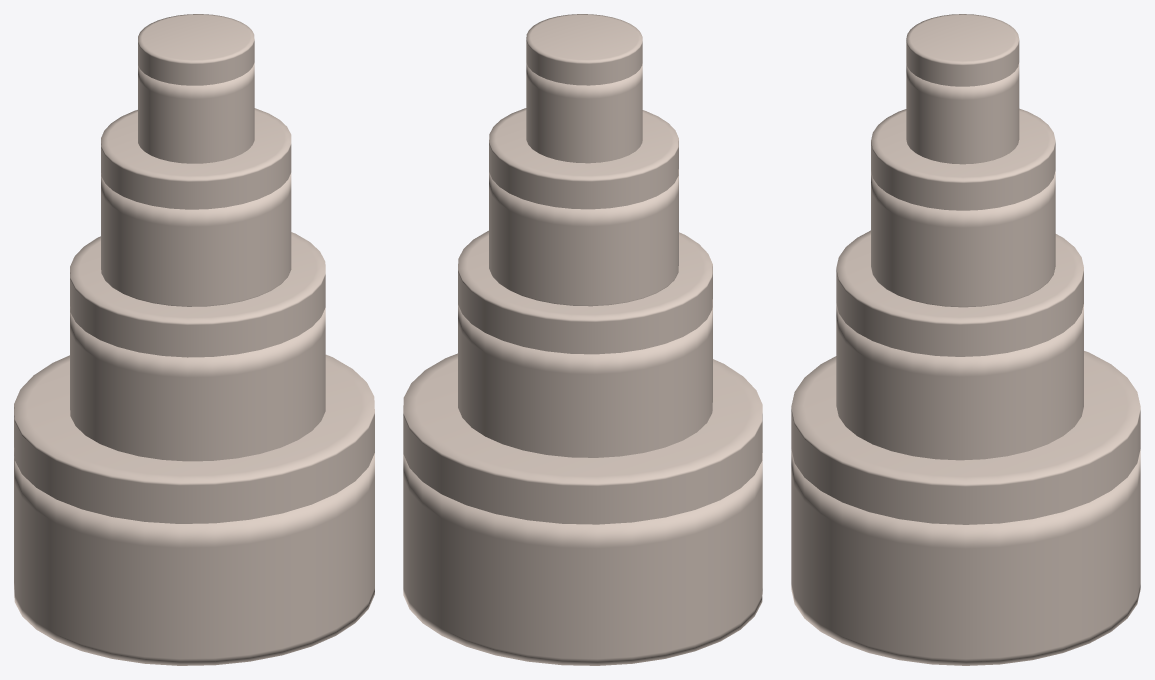
Rendered from 4-tier-white-none-none.glb.
3 renders of one model, left to right at view 1: azimuth 30°, elevation 25°; view 2: azimuth 150°, elevation 25°; view 3: azimuth 270°, elevation 25°, orthographic.
Parts seen in each view (by area): view 1: 3.001, 3, 2, 1; view 2: 3.001, 3, 2, 1; view 3: 3.001, 3, 2, 1.
Part boxes in pixels (x1,y1,x2,y2): 3.001: (14,354,374,665); 3: (70,232,325,461); 2: (101,108,291,306); 1: (138,14,254,163); 3.001: (403,353,762,665); 3: (458,230,712,457); 2: (489,108,678,306); 1: (526,14,642,163); 3.001: (791,351,1140,665); 3: (836,230,1083,460); 2: (871,108,1055,307); 1: (906,14,1019,164).
Bounding box in the file's own units: 4.43 × 7.43 × 4.27.
